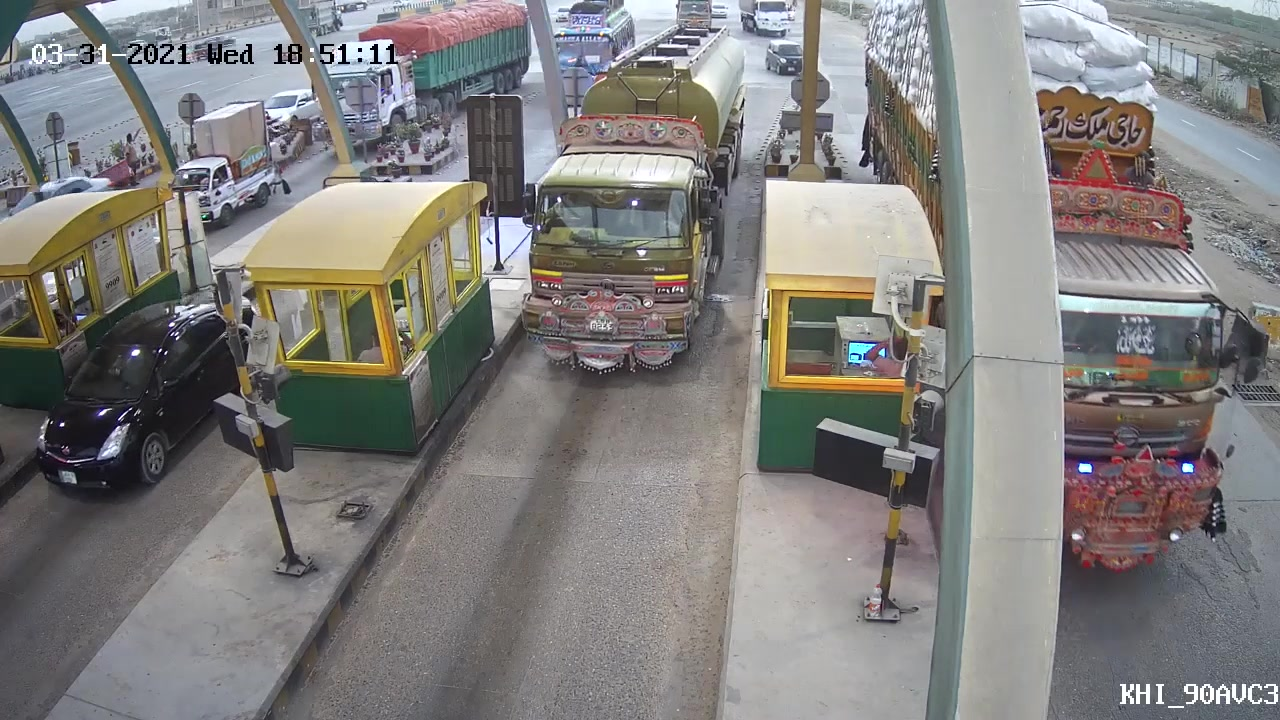F6: (512, 26, 753, 381)
